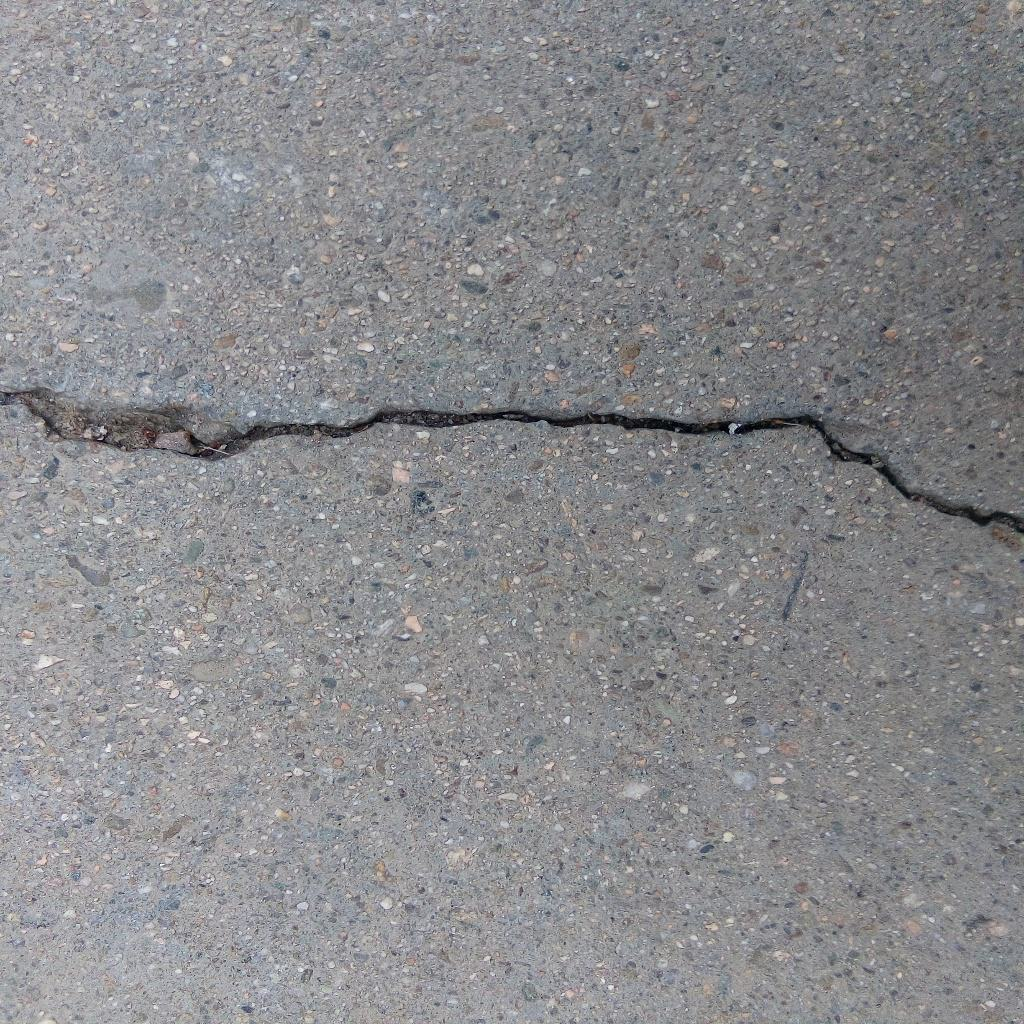Crack: (1, 385, 1024, 537)
